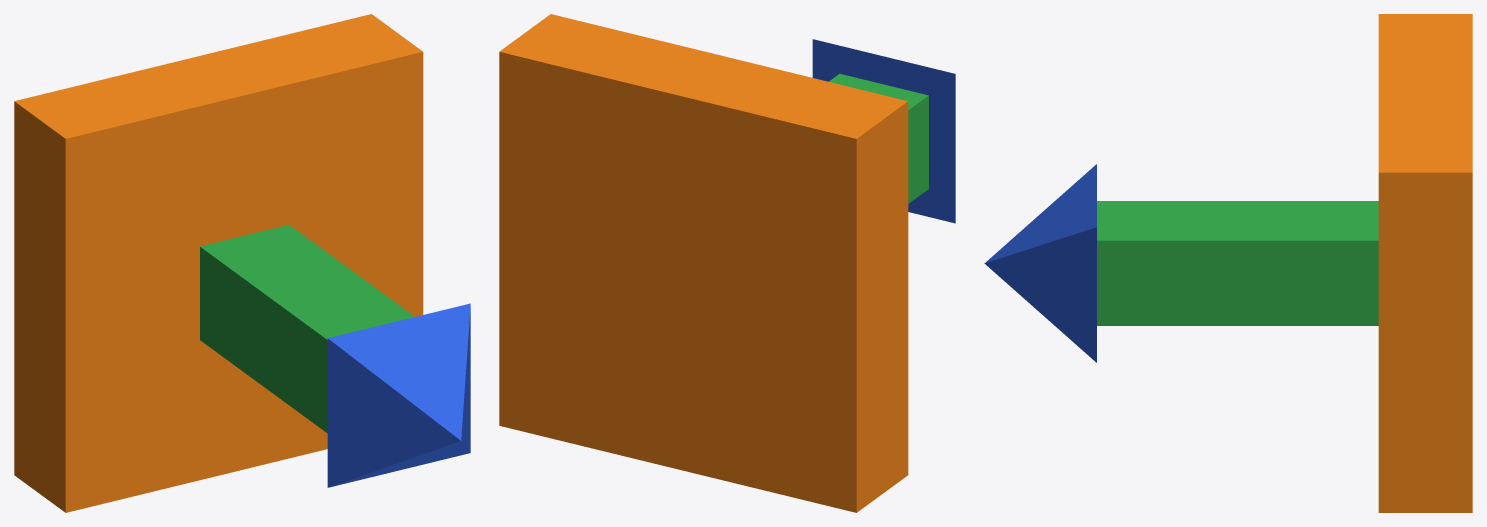
File: sample.obj
3 views of the same model, side by side, from view 1: azimuth 30°, elevation 25°; view 2: azimuth 150°, elevation 25°; view 3: azimuth 270°, elevation 25° (orthographic). The views are drawn at different scales.
Parts seen in each view (by area): view 1: Base, Tower, Roof; view 2: Base, Roof, Tower; view 3: Base, Tower, Roof.
Boxes of the visible parts, <box> form: Base: <box>14,14,423,512</box>; Tower: <box>200,225,414,433</box>; Roof: <box>327,303,470,487</box>; Base: <box>499,14,908,512</box>; Roof: <box>812,39,955,223</box>; Tower: <box>829,73,928,203</box>; Base: <box>1378,14,1472,512</box>; Tower: <box>1097,201,1378,325</box>; Roof: <box>984,164,1096,362</box>.
Size of the model in its own units: 40 by 40 by 52.
